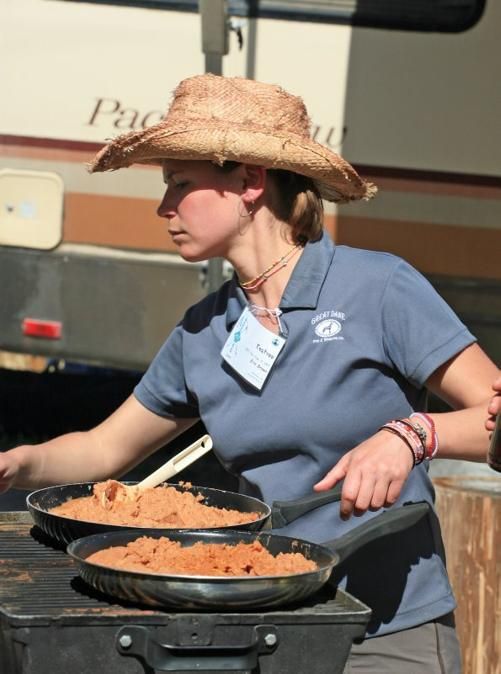person: (3, 77, 500, 673)
